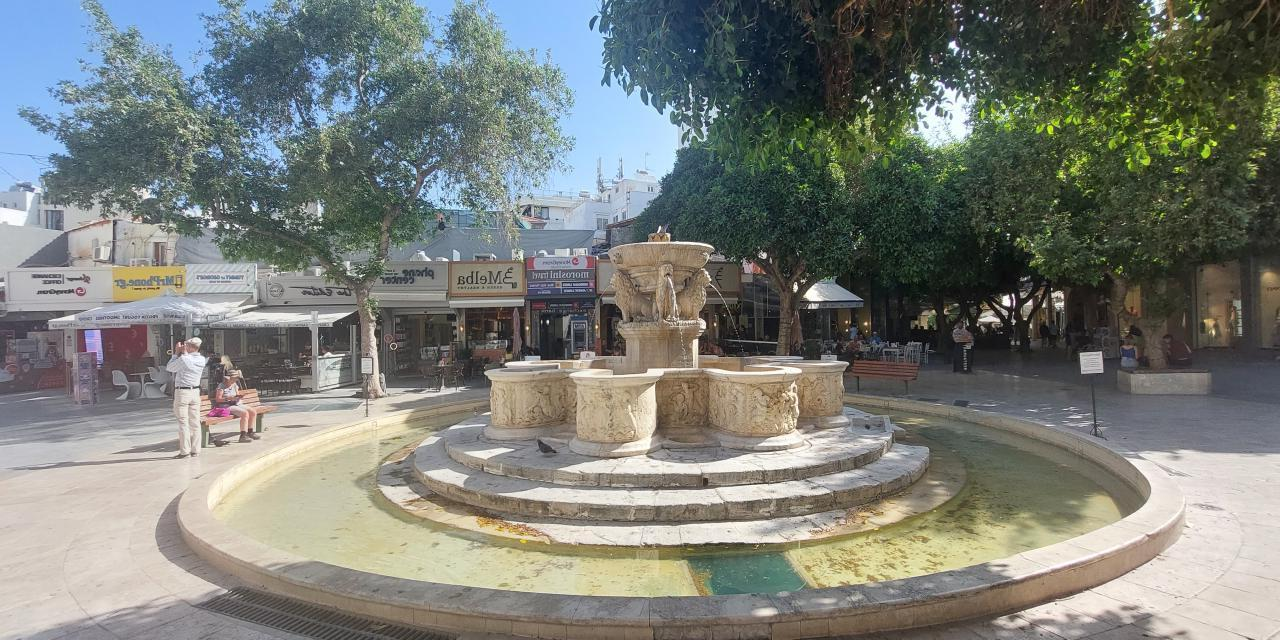Liontaria: (483, 233, 855, 455)
